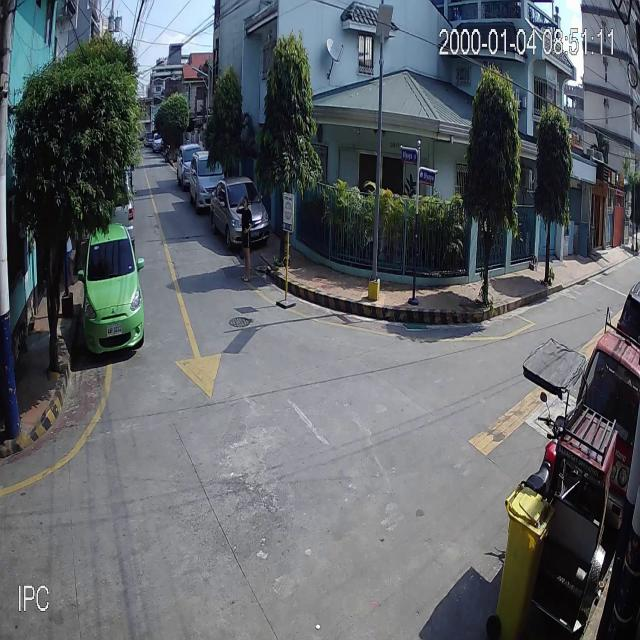standing: (236, 195, 253, 282)
